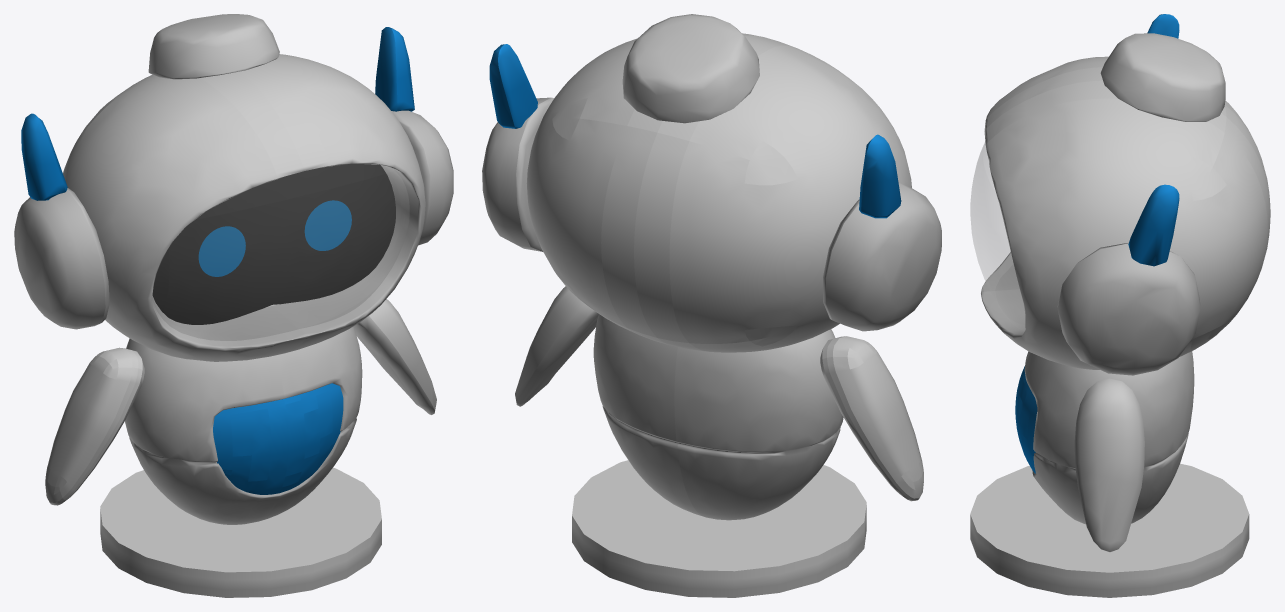
The model's file is Robot Buddy.fbx.
3 views of the same model, side by side, from view 1: azimuth 30°, elevation 25°; view 2: azimuth 150°, elevation 25°; view 3: azimuth 270°, elevation 25° (orthographic). The views are drawn at different scales.
Parts seen in each view (by area): view 1: Robot_Buddy; view 2: Robot_Buddy; view 3: Robot_Buddy.
Boxes of the visible parts, x1,y1,x2,y2 form: Robot_Buddy: (14, 14, 453, 597); Robot_Buddy: (482, 14, 941, 597); Robot_Buddy: (970, 14, 1270, 597).
Size of the model in its own units: 276 by 326 by 180.
